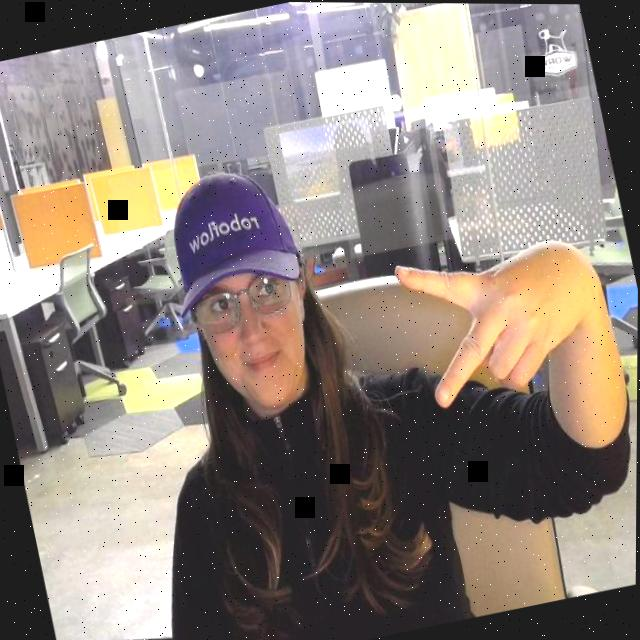Scissors: (380, 215, 628, 418)
